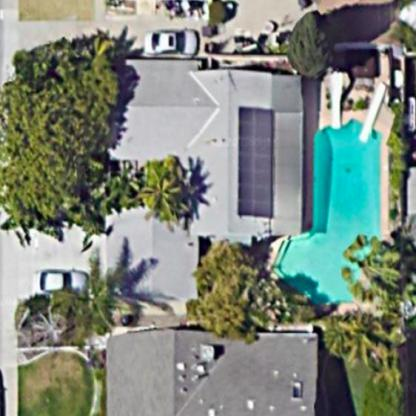car: (140, 22, 207, 64), (37, 270, 97, 297)
solar_panel: (227, 101, 284, 224)
swimming_pool: (273, 98, 398, 317)
